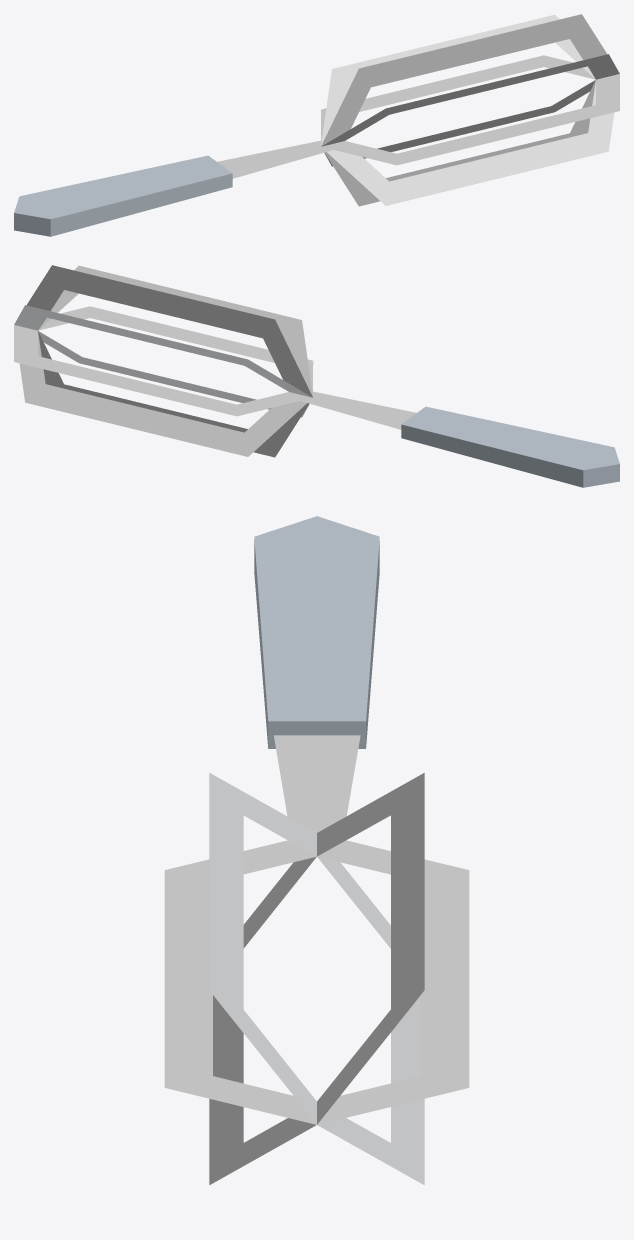
Rendered from whisk.glb.
3 views of the same model, one above another, from view 1: azimuth 30°, elevation 25°; view 2: azimuth 150°, elevation 25°; view 3: azimuth 270°, elevation 25° (orthographic). The views are drawn at different scales.
Visible parts, largest first — view 1: whisk; view 2: whisk; view 3: whisk.
Part boxes in pixels (bbox=[...]): whisk: bbox=[14, 14, 619, 236]; whisk: bbox=[14, 265, 619, 487]; whisk: bbox=[164, 516, 469, 1184].
Size of the model in its own units: 0.7244 by 0.1577 by 0.1577.
